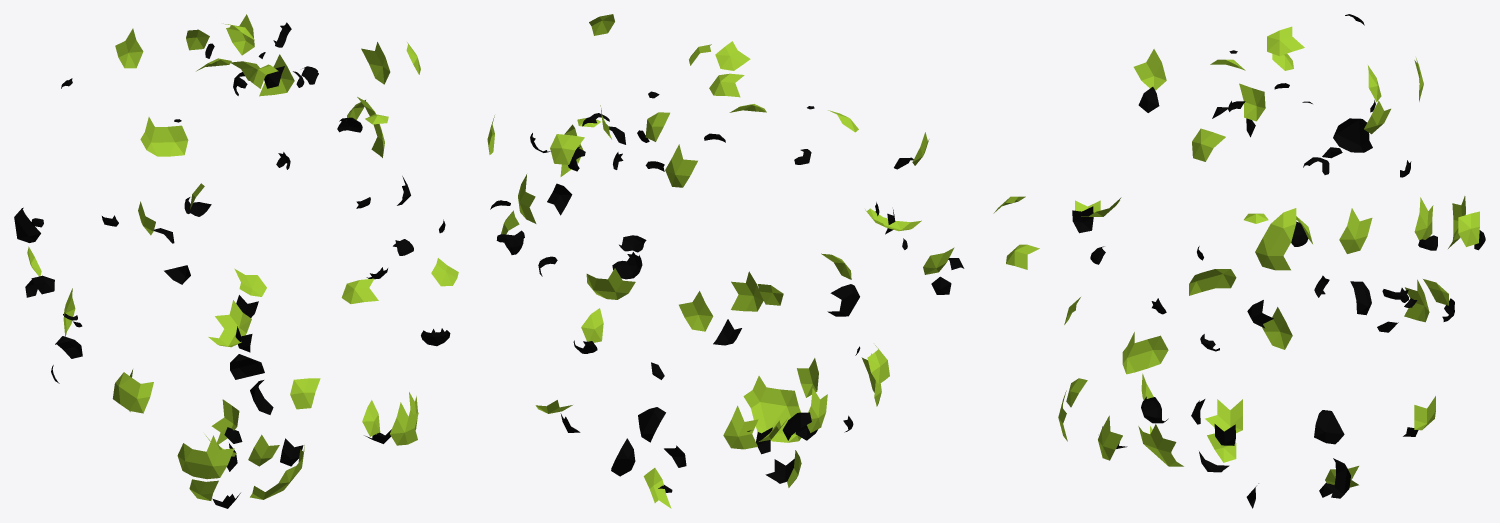
The model's file is explode.f0012.glb.
3 views of the same model, side by side, from view 1: azimuth 30°, elevation 25°; view 2: azimuth 150°, elevation 25°; view 3: azimuth 270°, elevation 25° (orthographic). The views are drawn at different scales.
Parts seen in each view (by area): view 1: Body.001; view 2: Body.001; view 3: Body.001.
Boxes of the visible parts, left/top/right/bottom form: Body.001: left=14, top=14, right=458, bottom=508; Body.001: left=487, top=14, right=964, bottom=508; Body.001: left=993, top=14, right=1485, bottom=508.
Bounding box in the file's own units: 9.61 × 10.02 × 9.67.
1 material, 1 textured.
